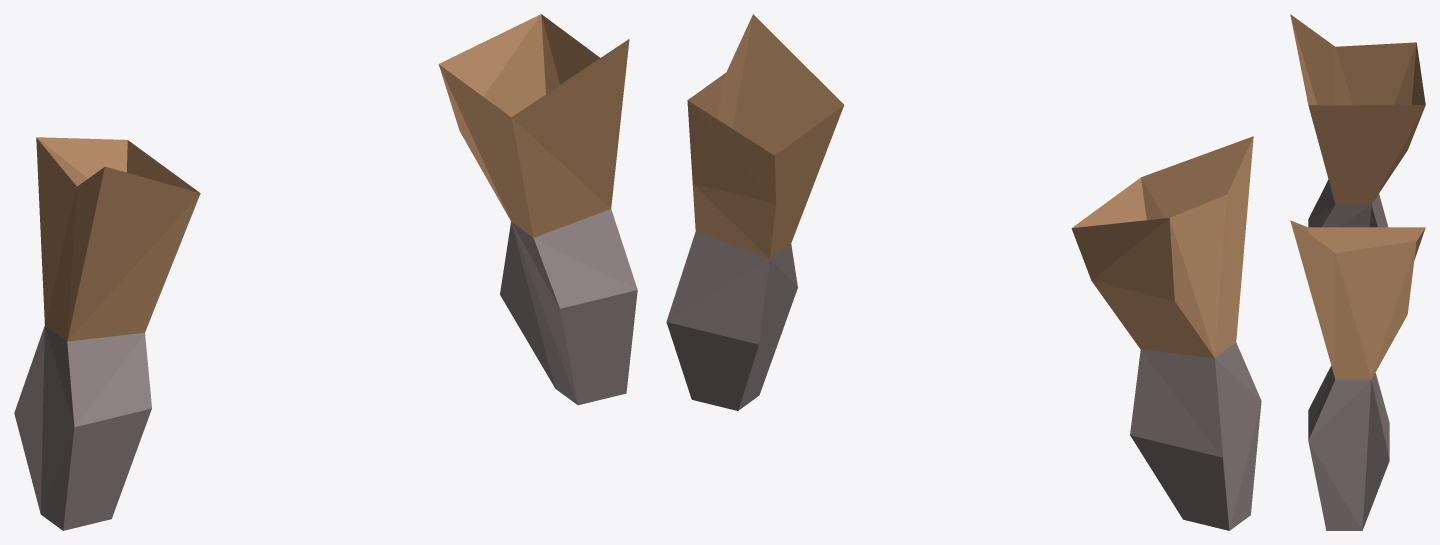
File: npc_world_ice_queen_5.obj
3 renders of one model, left to right at view 1: azimuth 30°, elevation 25°; view 2: azimuth 150°, elevation 25°; view 3: azimuth 270°, elevation 25°, orthographic. The views are drawn at different scales.
Size of the model in its own units: 0.4688 by 0.2891 by 0.1172.
